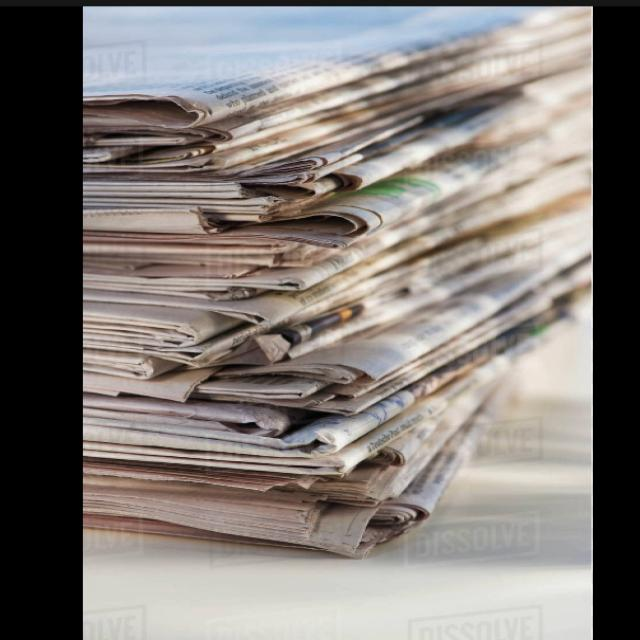Koran: (80, 6, 593, 558)
